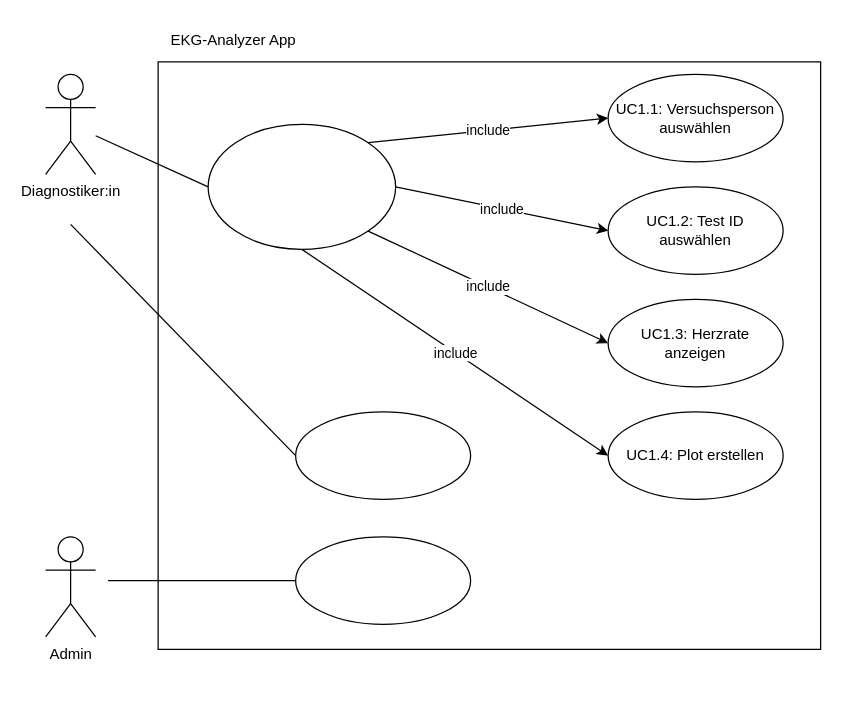
Some shapes in this 843 by 703 pixel diagram are drawn without their labels. Here are the shapes that lost their labels. From the top down, the centre of each, then its label:
pixel 301 186: UC1.0: EKG eines Tests auswerten
pixel 382 455: UC2.0: Daten verwalten
pixel 382 580: UC3: App-Nutzer und Daten verwalten
